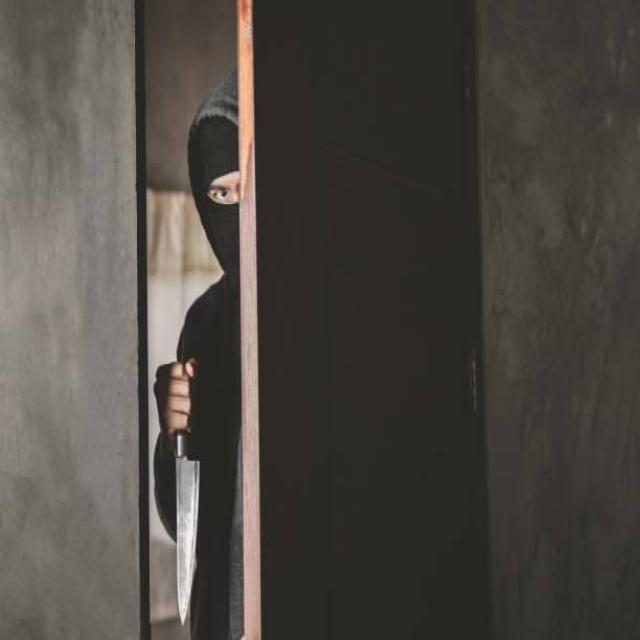faca: (144, 346, 212, 630)
